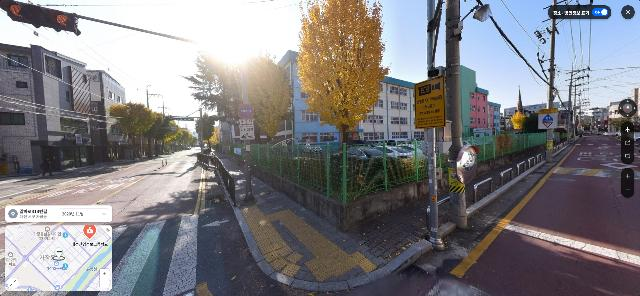ginkgo: (296, 0, 390, 150), (236, 43, 294, 144), (108, 100, 164, 159), (154, 118, 180, 156), (174, 127, 190, 150), (510, 110, 526, 129)
other: (179, 48, 244, 145)
